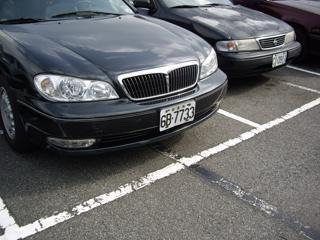plate: (158, 100, 196, 130)
